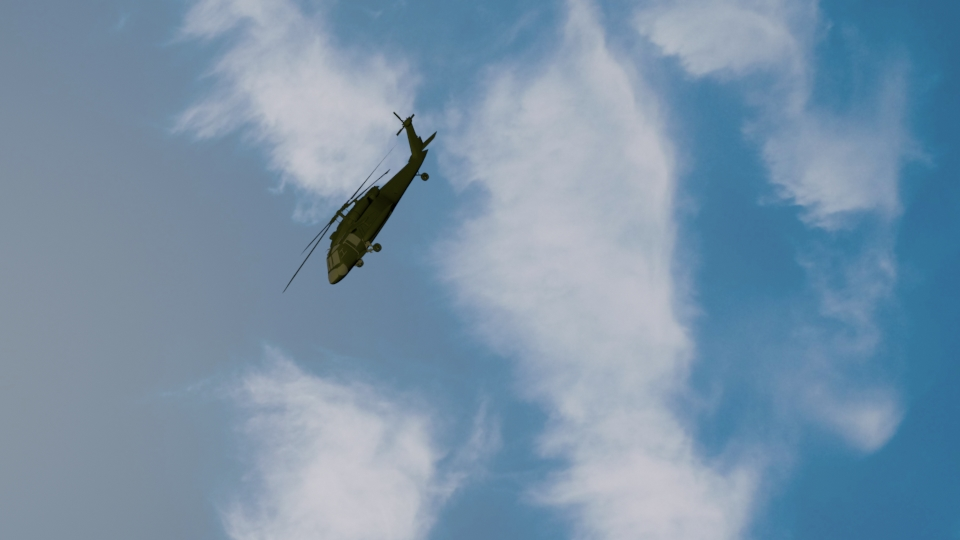heli: (313, 110, 438, 285)
